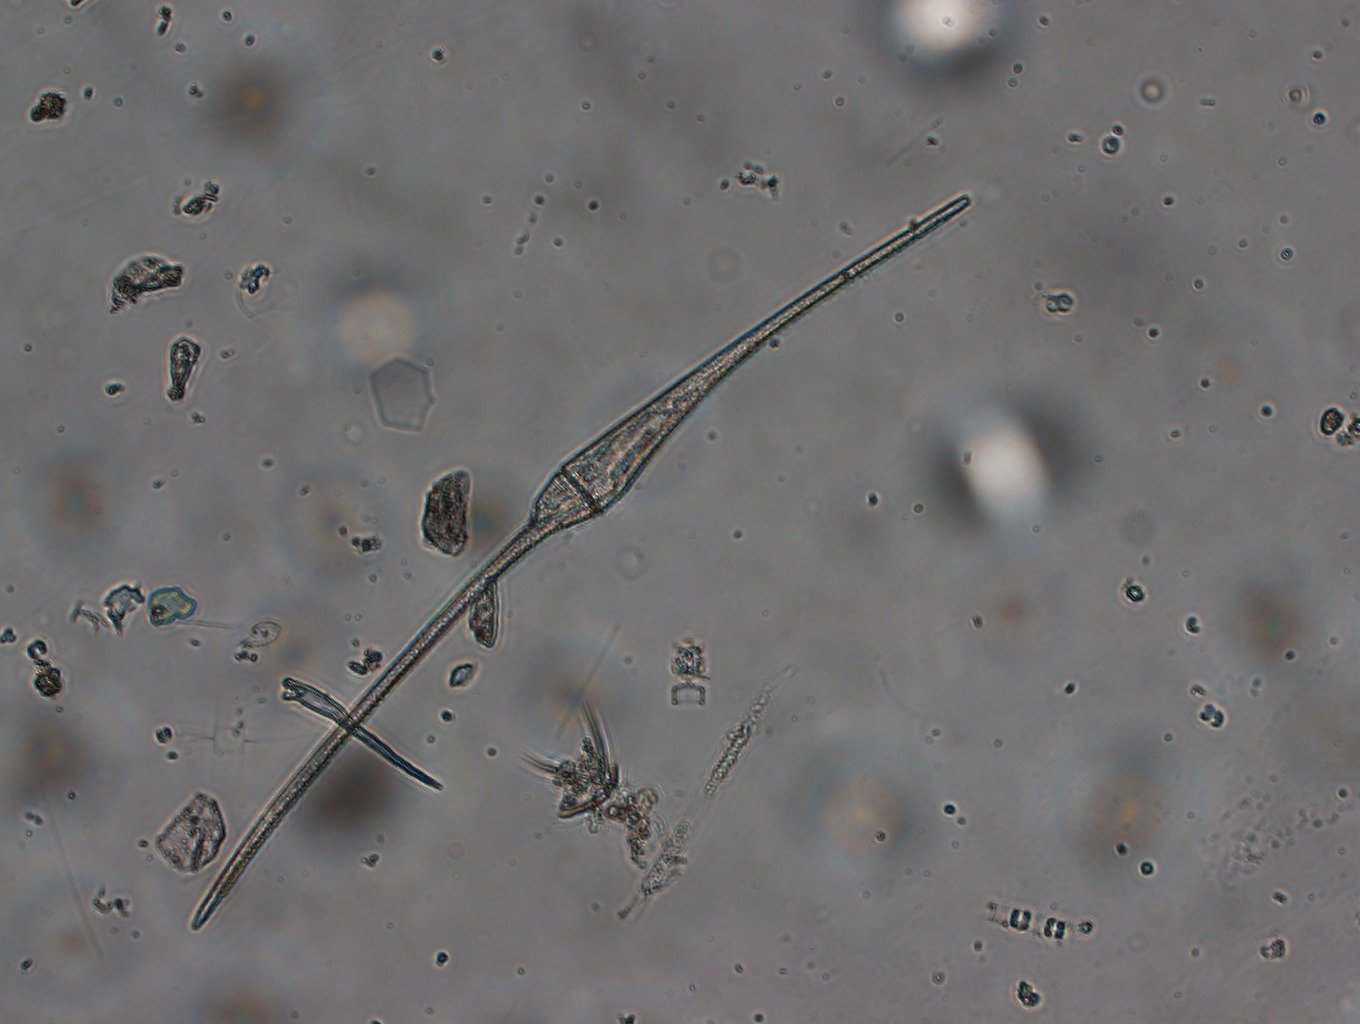ceratium fusus: (176, 177, 994, 937)
